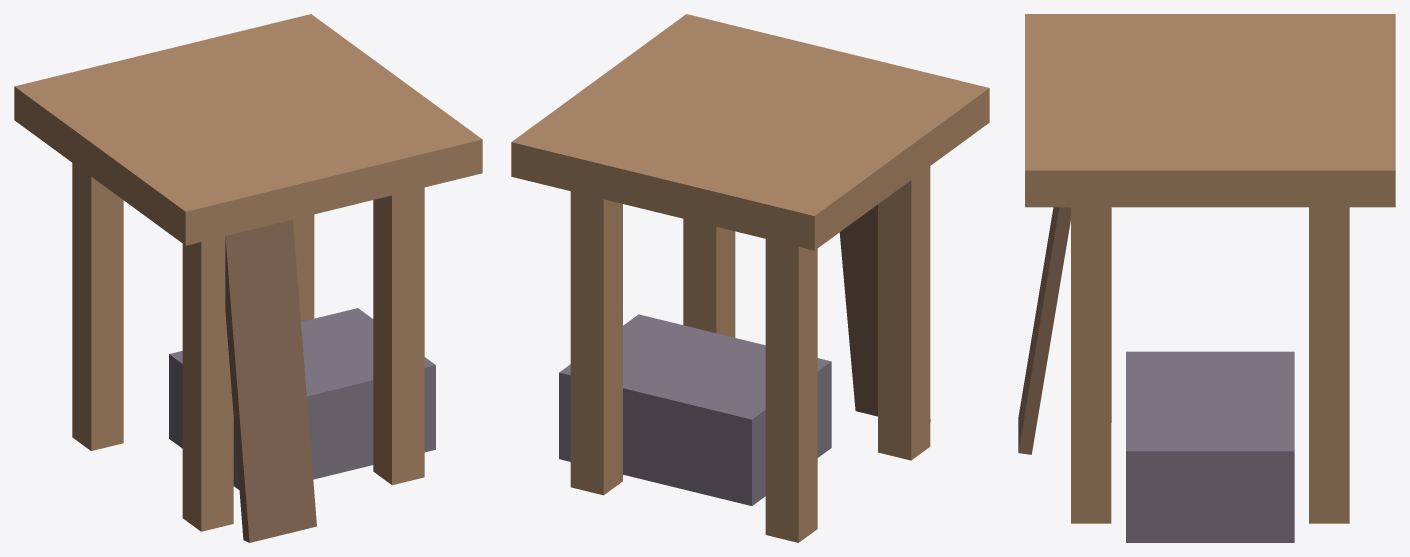
Rendered from scaffold.glb.
The picture shows the model from 3 angles, left to right: view 1: azimuth 30°, elevation 25°; view 2: azimuth 150°, elevation 25°; view 3: azimuth 270°, elevation 25°; orthographic projection. The views are drawn at different scales.
Parts seen in each view (by area): view 1: deck, detail_ladder, pole3, pole2, pole1, block, pole0; view 2: deck, block, pole1, pole0, pole2, detail_ladder, pole3; view 3: deck, block, pole0, pole3, detail_ladder.
Boxes of the visible parts, left/top/right/bottom form: deck: left=14, top=14, right=482, bottom=245; detail_ladder: left=225, top=219, right=316, bottom=542; pole3: left=373, top=187, right=424, bottom=485; pole2: left=182, top=236, right=233, bottom=531; pole1: left=72, top=163, right=123, bottom=450; block: left=169, top=308, right=435, bottom=489; pole0: left=293, top=214, right=314, bottom=321; deck: left=511, top=14, right=989, bottom=250; block: left=559, top=314, right=831, bottom=505; pole1: left=765, top=239, right=817, bottom=542; pole0: left=570, top=191, right=622, bottom=495; pole2: left=878, top=166, right=930, bottom=460; detail_ladder: left=839, top=204, right=930, bottom=421; pole3: left=683, top=219, right=735, bottom=337; deck: left=1025, top=14, right=1395, bottom=207; block: left=1126, top=351, right=1294, bottom=542; pole0: left=1309, top=207, right=1349, bottom=523; pole3: left=1071, top=207, right=1111, bottom=523; detail_ladder: left=1018, top=207, right=1070, bottom=454.
Size of the model in its own units: 1.1 by 1.22 by 1.12.
